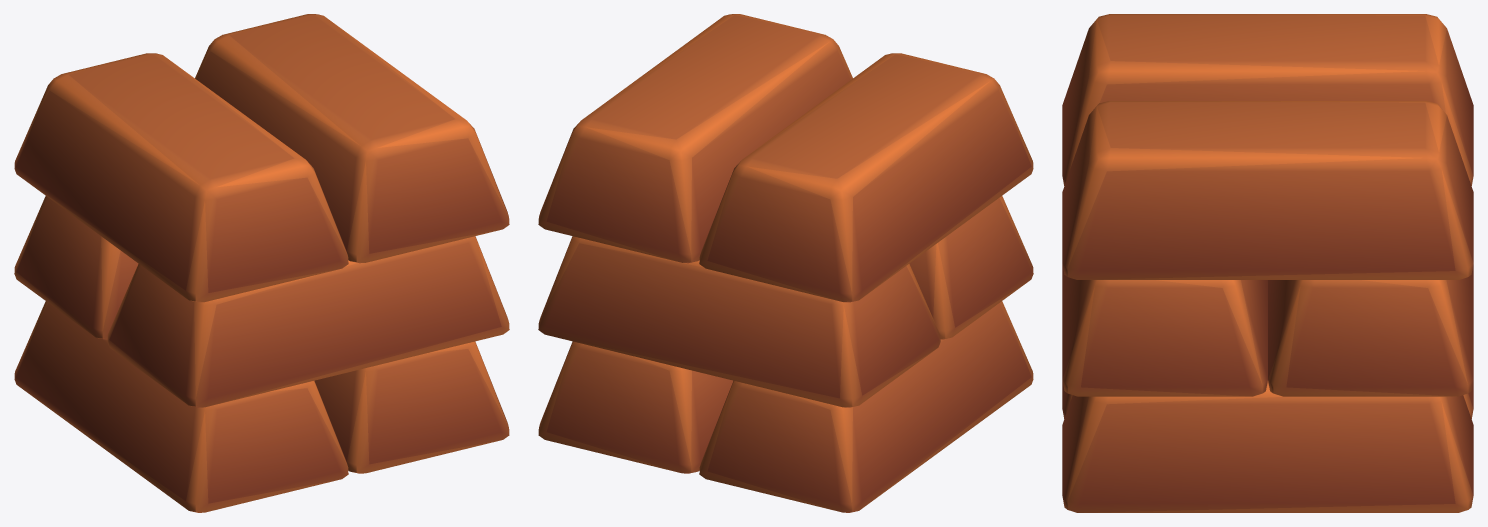
Rendered from Copper_Bars_Stack_Small.glb.
The picture shows the model from 3 angles, left to right: view 1: azimuth 30°, elevation 25°; view 2: azimuth 150°, elevation 25°; view 3: azimuth 270°, elevation 25°; orthographic projection. The views are drawn at different scales.
Parts seen in each view (by area): view 1: Copper_Bars_Stack_Small; view 2: Copper_Bars_Stack_Small; view 3: Copper_Bars_Stack_Small.
Part boxes in pixels (<box>): Copper_Bars_Stack_Small: <box>14,14,509,512</box>; Copper_Bars_Stack_Small: <box>538,14,1033,512</box>; Copper_Bars_Stack_Small: <box>1062,14,1473,512</box>.
Size of the model in its own units: 0.8 by 0.75 by 0.8.
Materials: 1 (1 with a texture image).
